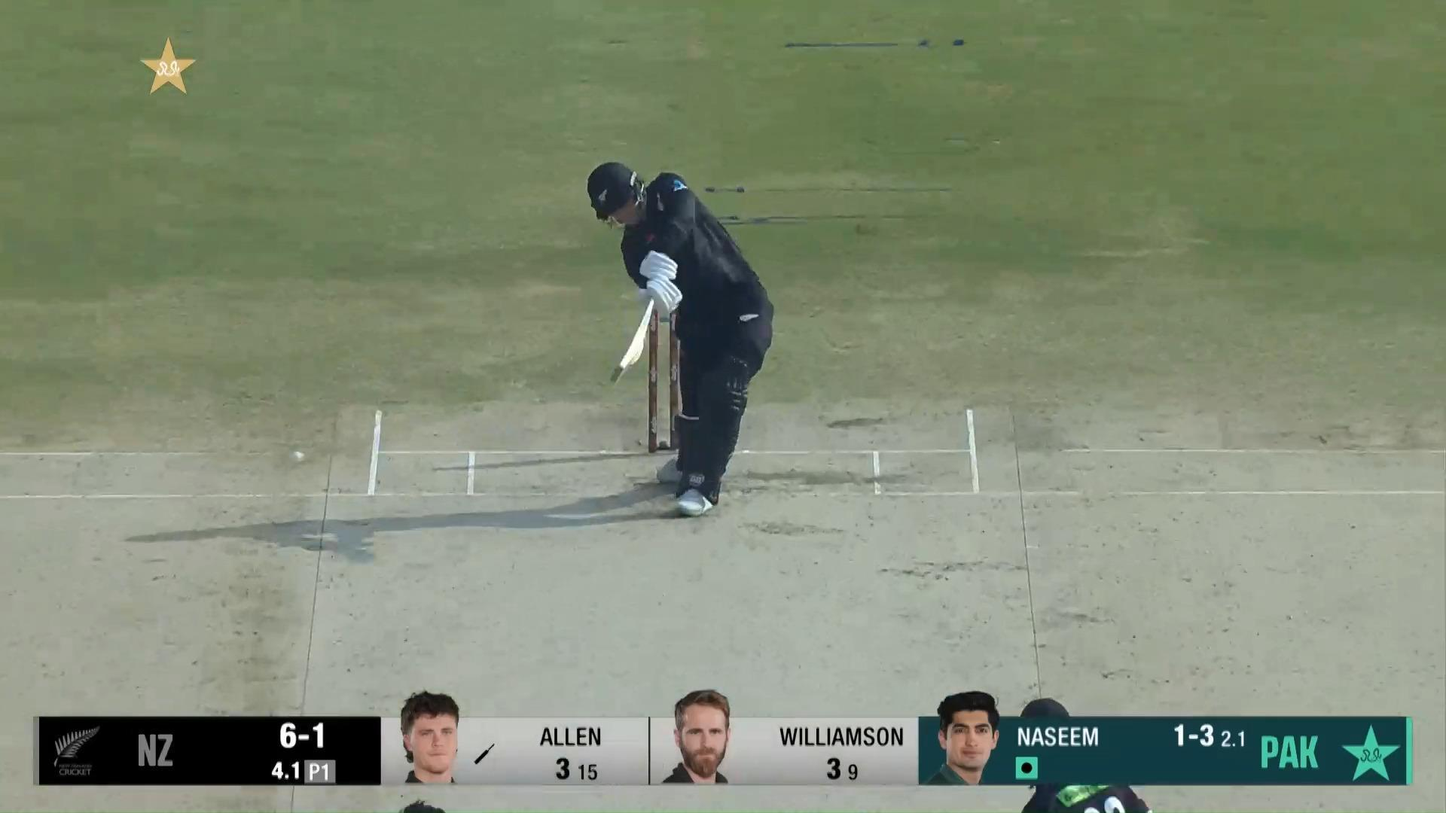BM 1: (587, 161, 775, 520)
BO: (400, 798, 447, 813)
